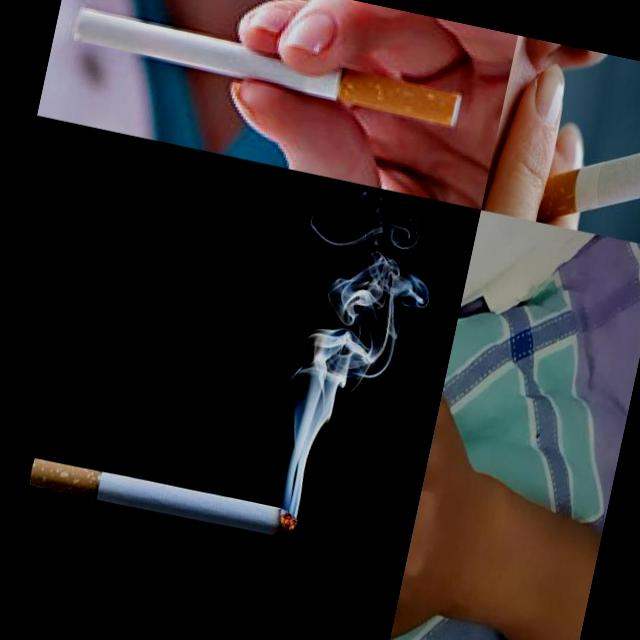cigarette: (68, 2, 462, 124), (27, 456, 299, 544), (499, 99, 640, 247)
